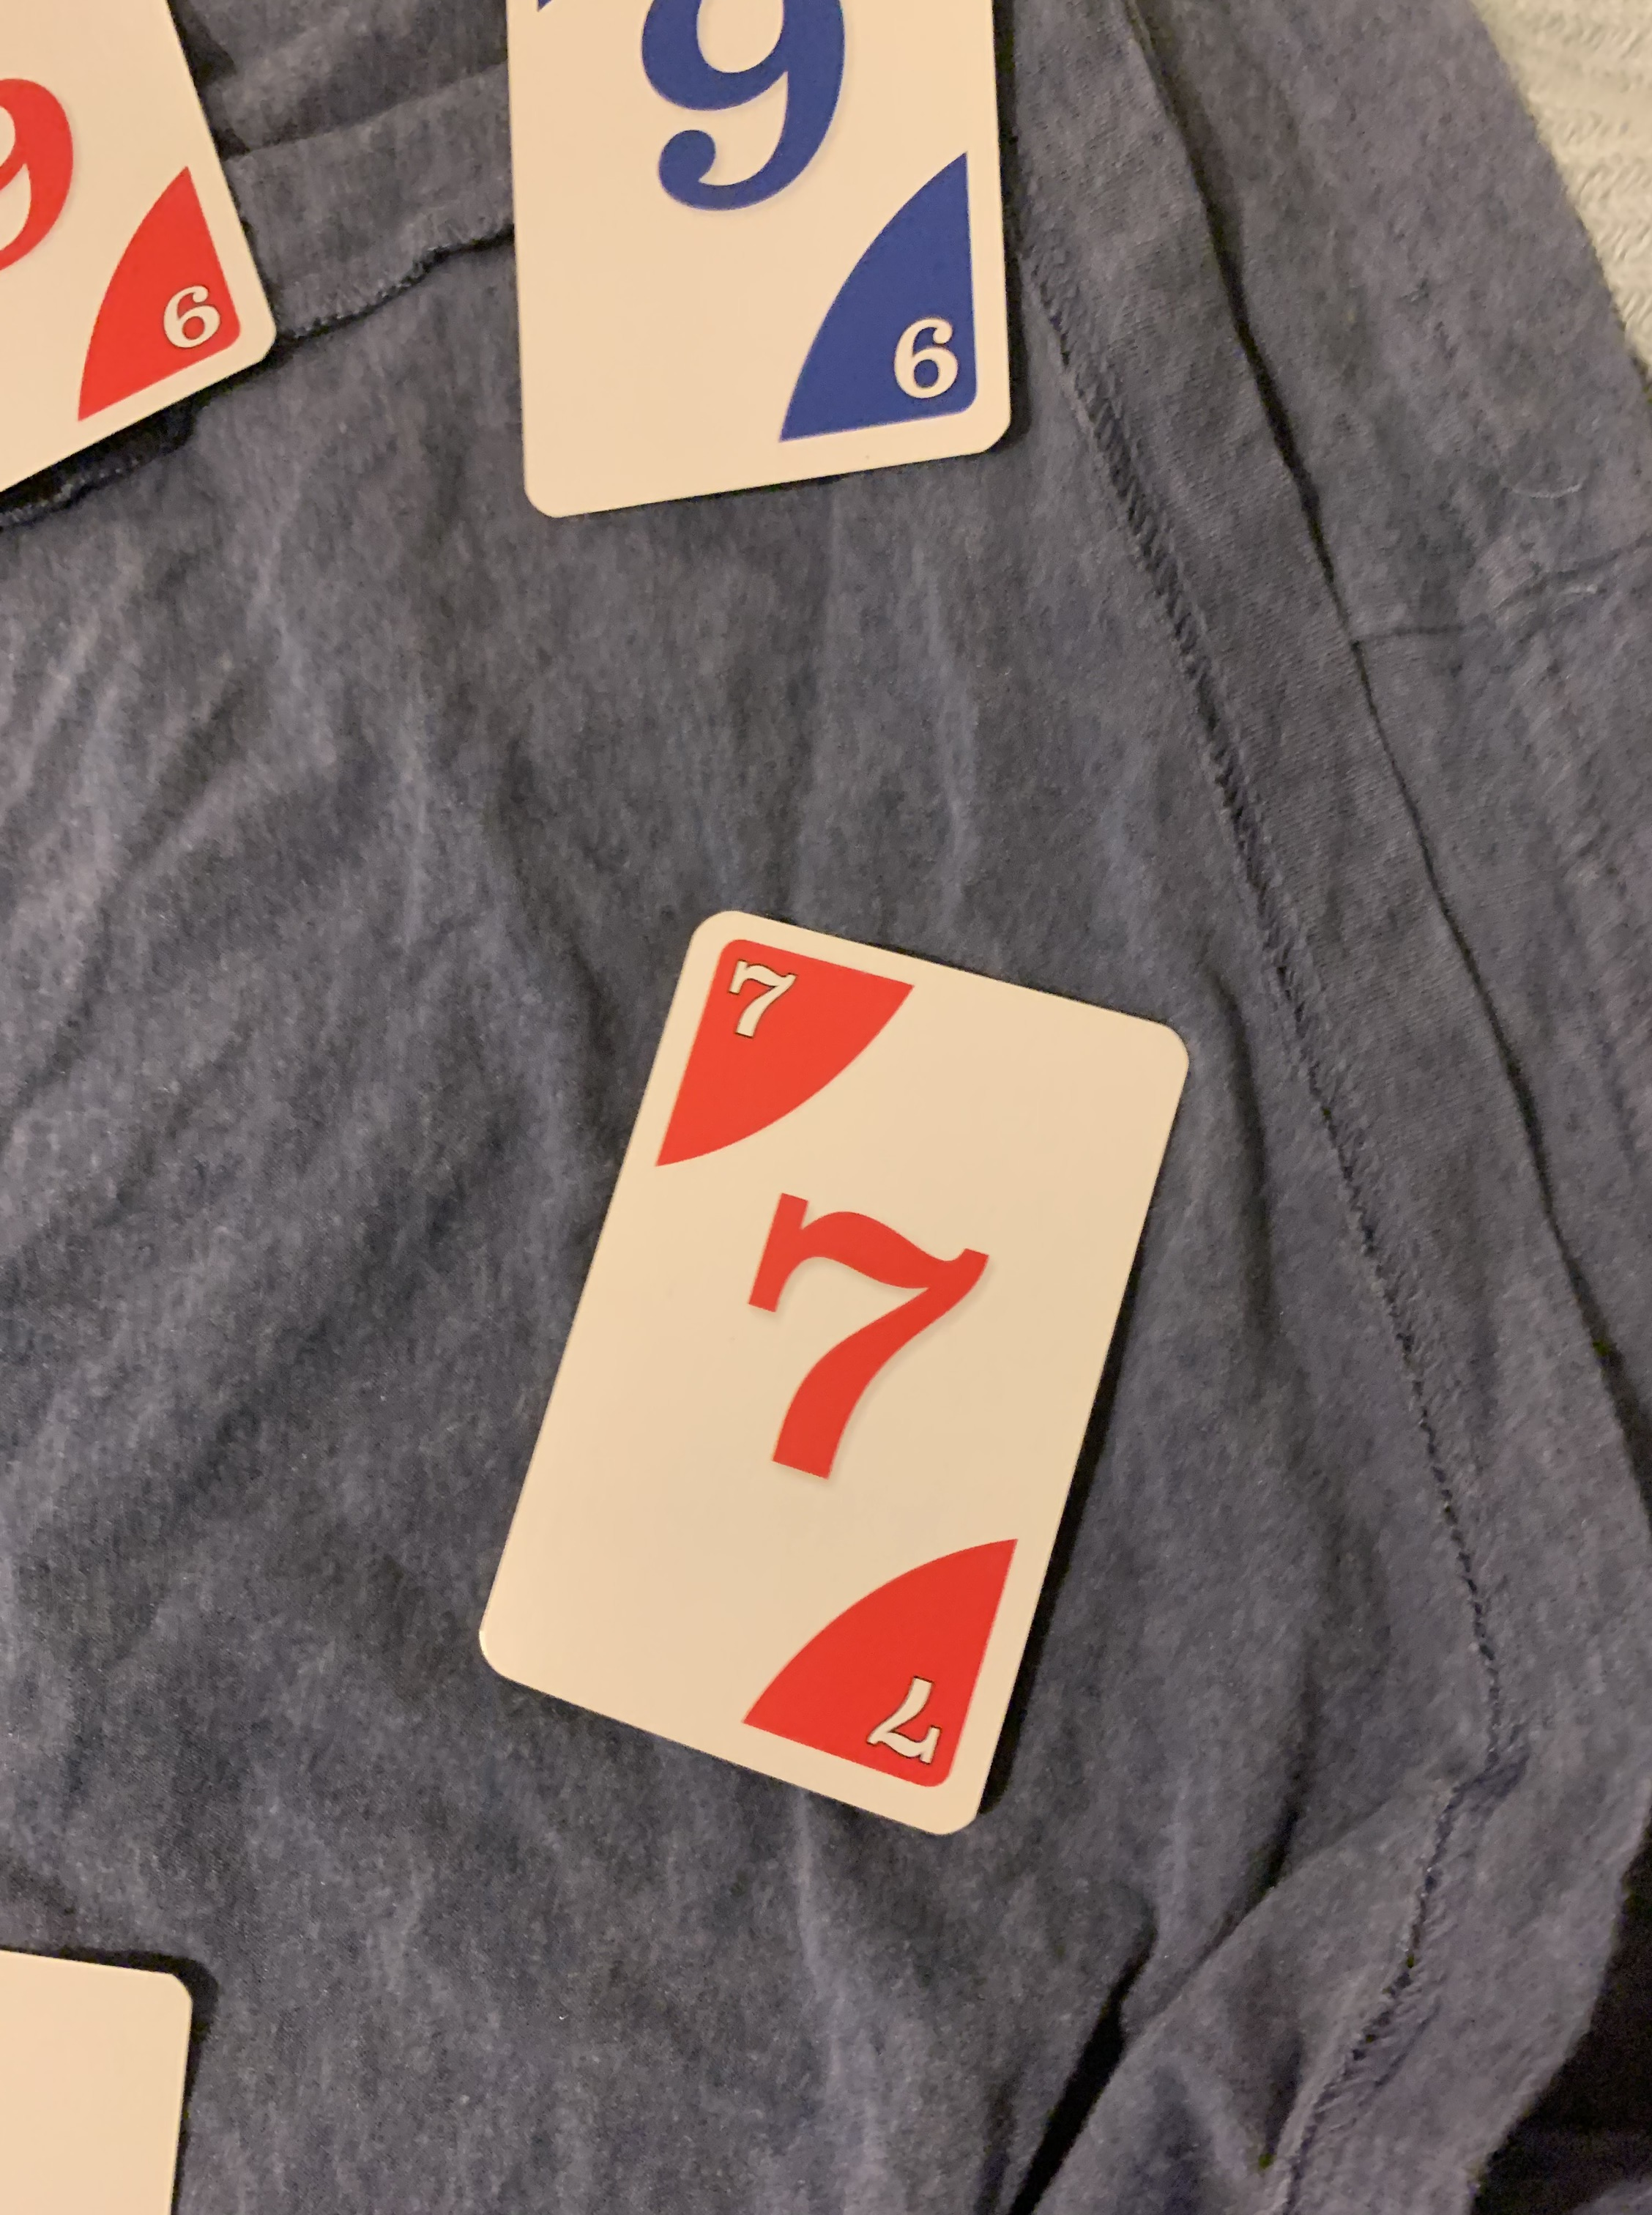nine: (491, 0, 1019, 526)
seven: (469, 910, 1190, 1837)
